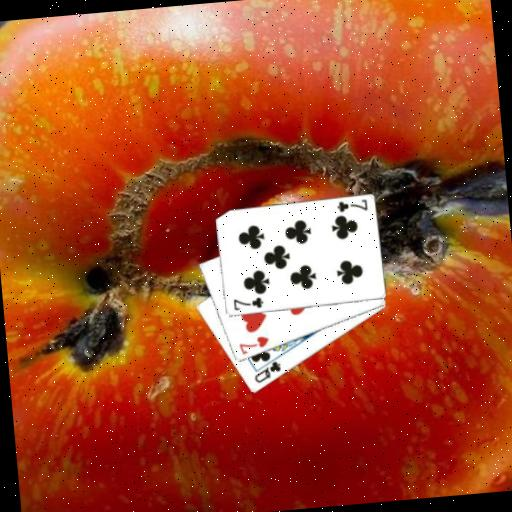7C: (333, 197, 369, 215), (230, 294, 265, 312)
7H: (235, 333, 272, 357)
QC: (250, 358, 284, 386)
